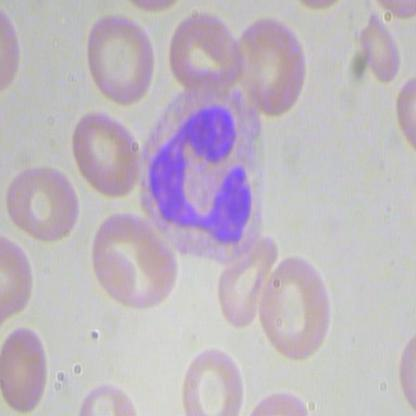RBC: (92, 208, 179, 317), (259, 251, 337, 361), (230, 17, 315, 116), (81, 13, 161, 107), (68, 106, 148, 200), (209, 235, 280, 328), (166, 1, 240, 90), (1, 164, 78, 241), (179, 341, 252, 415), (1, 323, 56, 415), (350, 10, 406, 82)
WBC: (136, 80, 285, 257)
